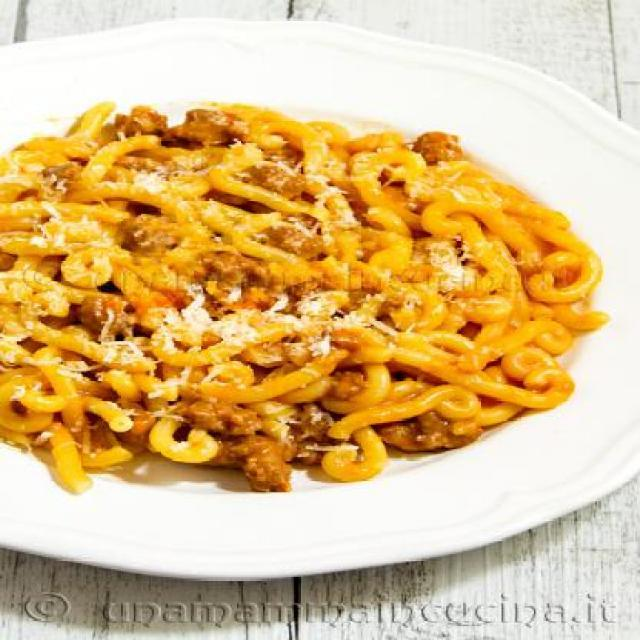Pasta al ragu: (11, 86, 594, 488)
